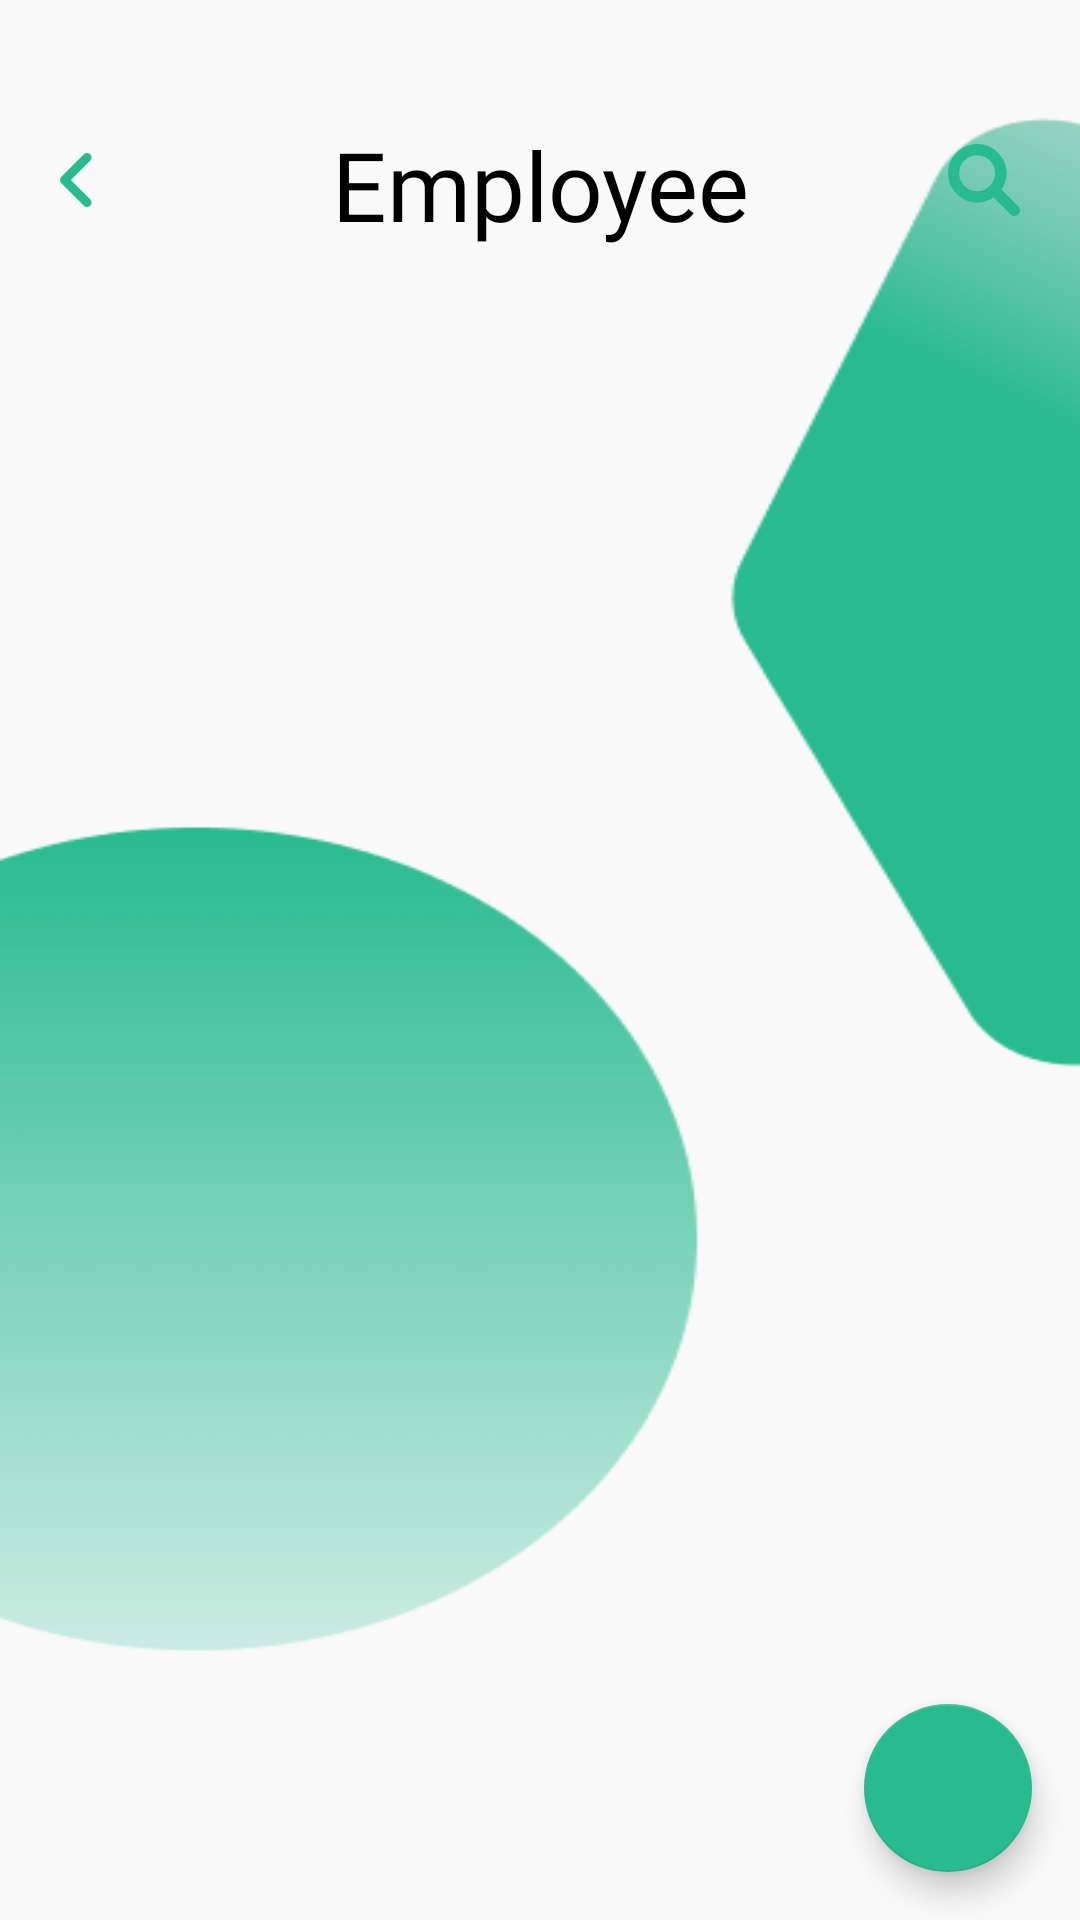

Icons on this 1080x1920 Android screen, each with the point to tap as (x=x, y=y):
left: (x=76, y=180)
searchh: (x=984, y=180)
